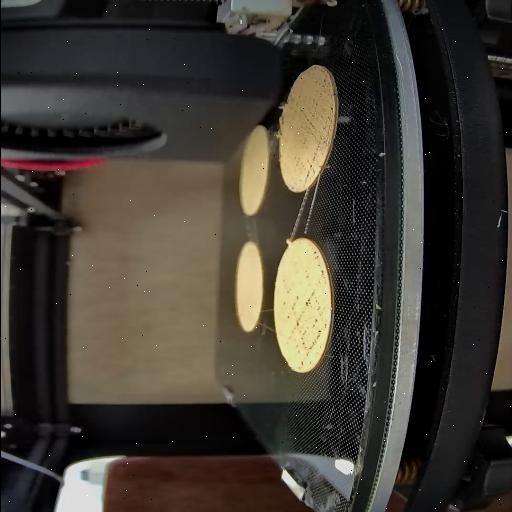under_extrusion: (280, 288, 320, 366), (292, 76, 334, 130), (301, 138, 321, 184), (298, 252, 326, 279)
